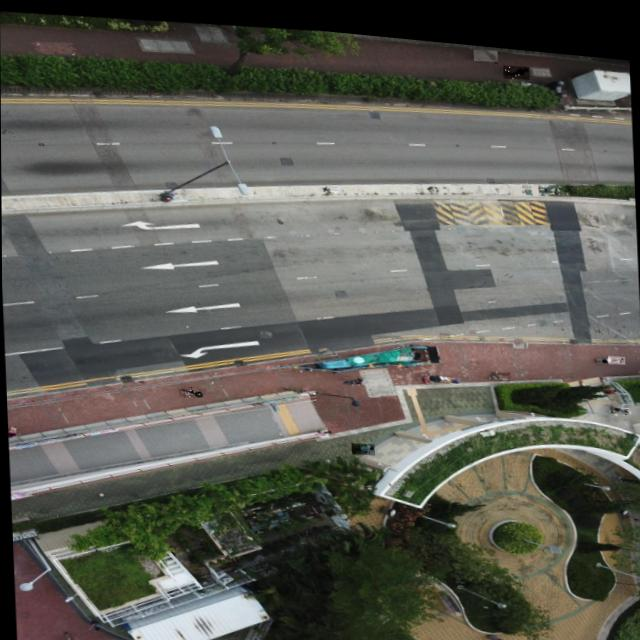Person: (502, 54, 528, 69), (473, 39, 497, 54), (177, 381, 204, 394), (350, 434, 373, 448), (340, 367, 363, 379), (488, 360, 508, 372), (608, 392, 628, 402), (606, 342, 623, 353), (446, 367, 458, 375), (596, 348, 604, 350)
